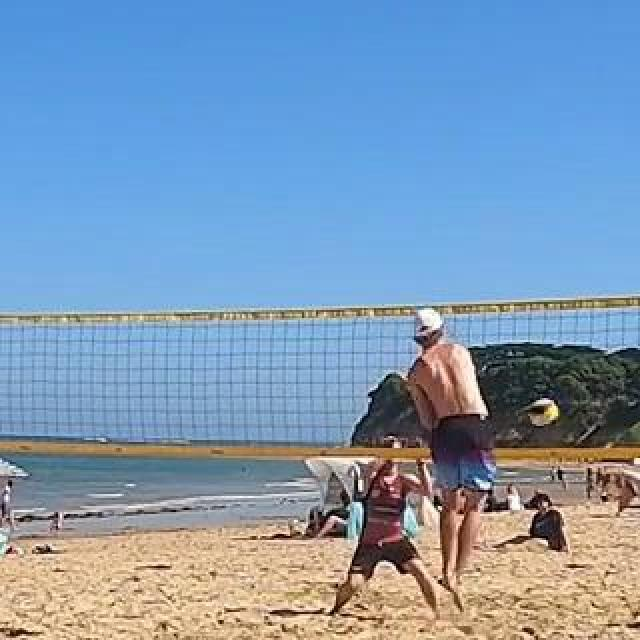volleyball: (531, 397, 561, 427)
